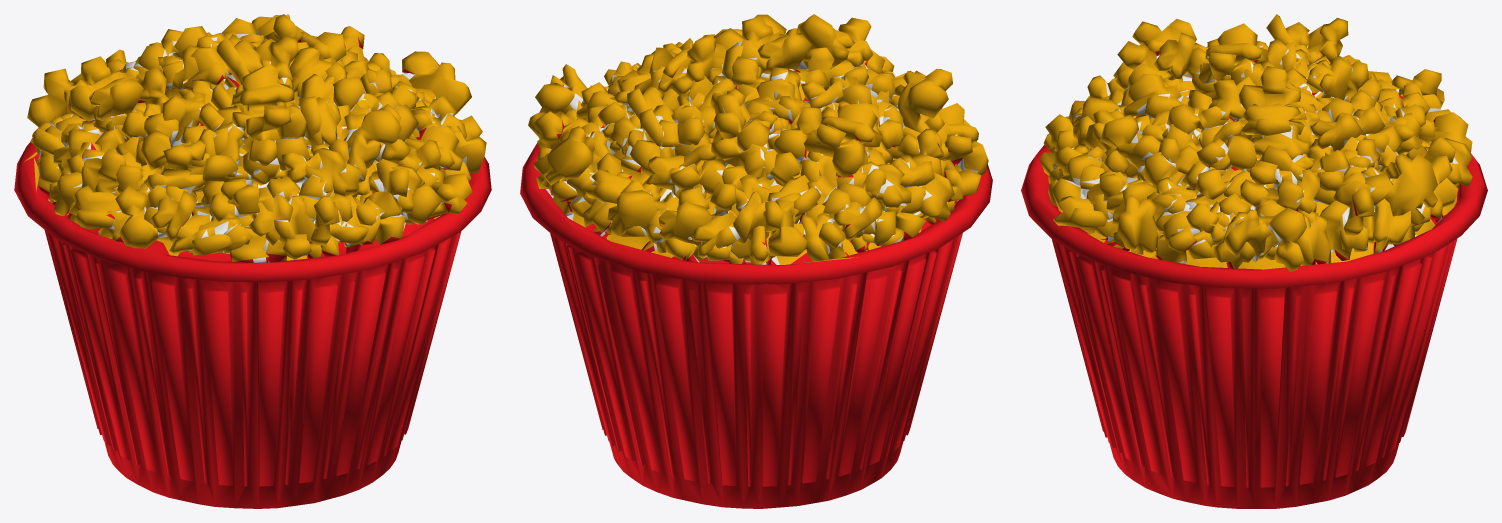
The model's file is Popcorm.fbx.
The picture shows the model from 3 angles, left to right: view 1: azimuth 30°, elevation 25°; view 2: azimuth 150°, elevation 25°; view 3: azimuth 270°, elevation 25°; orthographic projection. The views are drawn at different scales.
Parts seen in each view (by area): view 1: 15194_Bucket_of_Popcorn; view 2: 15194_Bucket_of_Popcorn; view 3: 15194_Bucket_of_Popcorn.
Part boxes in pixels (x1,y1,x2,y2): 15194_Bucket_of_Popcorn: [14, 14, 491, 508]; 15194_Bucket_of_Popcorn: [520, 14, 992, 508]; 15194_Bucket_of_Popcorn: [1021, 14, 1487, 508].
Size of the model in its own units: 9.55 by 9.27 by 9.54.
